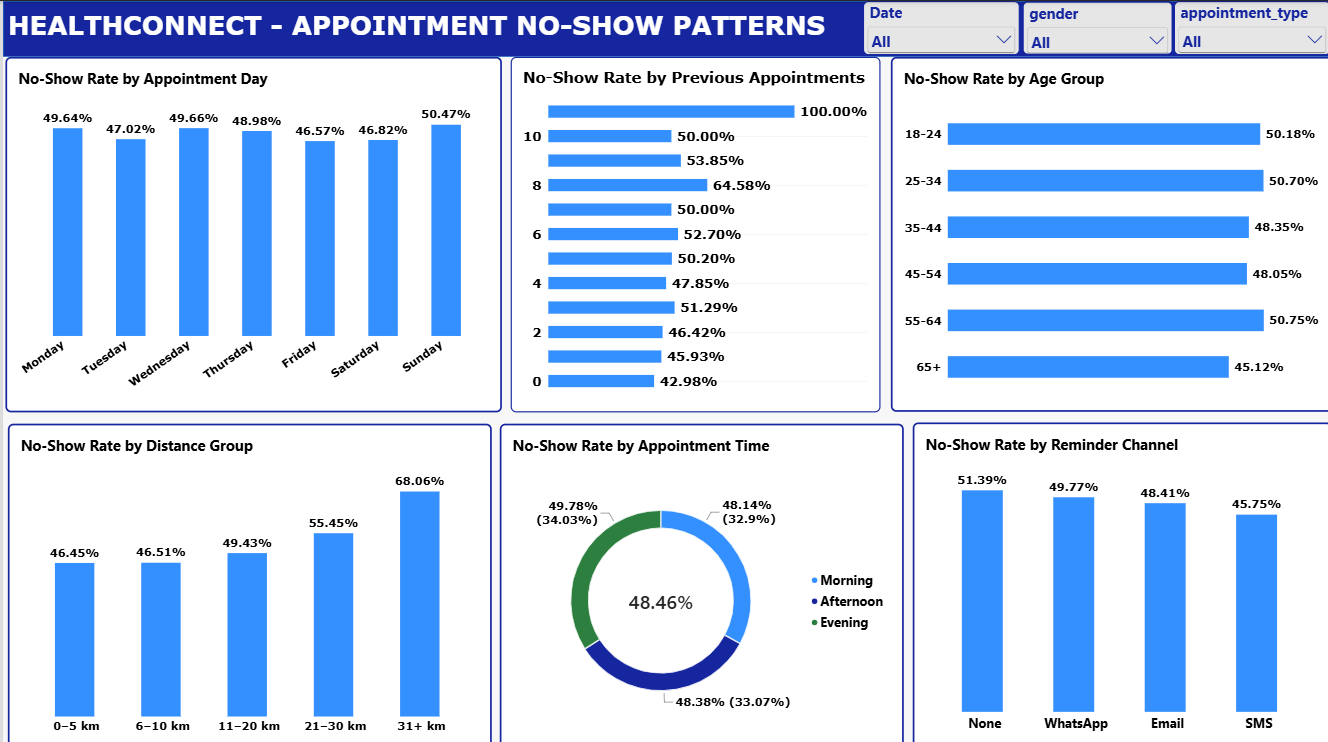

The page's visual inventory and layout, read from the dashboard file:
{"tool":"powerbi","page":{"name":"NO-SHOW-PATTERN","canvas":[1920,1080],"ordinal":1},"visuals":[{"type":"shape","box":[0,0,1918.5,80.3],"z":0},{"type":"clusteredColumnChart","title":"No-Show Rate by Appointment Day","fields":{"Category":["Appointments.appointment_day"],"Y":["Appointments.No-Show Rate"]},"box":[4.1,80.3,716.4,512.5],"z":1000},{"type":"clusteredBarChart","title":"No-Show Rate by Age Group","fields":{"Category":["Appointments.age_group"],"Y":["Appointments.No-Show Rate"]},"box":[1280.5,80.3,637.7,512.2],"z":2000},{"type":"donutChart","title":"No-Show Rate by Appointment Time","fields":{"Category":["Appointments.appointment_time"],"Y":["Appointments.No-Show Rate"]},"box":[716.4,609.3,582.6,469.3],"z":3000},{"type":"clusteredColumnChart","fields":{"Category":["Appointments.Distance Group New"],"Y":["Appointments.No-Show Rate"]},"box":[6.2,609.3,697.8,471.4],"z":4000},{"type":"slicer","fields":{"Values":["Appointments.appointment_type"]},"box":[1690,0,226.4,78.2],"z":5000},{"type":"slicer","fields":{"Values":["Appointments.gender"]},"box":[1469.8,0,218.2,78.2],"z":6000},{"type":"slicer","fields":{"Values":["DateTable.Date"]},"box":[1241.3,0,226.4,78.2],"z":7000},{"type":"clusteredColumnChart","title":"No-Show Rate by Reminder Channel","fields":{"Category":["Appointments.reminder_channel"],"Y":["Appointments.No-Show Rate"]},"box":[1313.3,607.3,605.2,471.4],"z":8000},{"type":"textbox","box":[6.2,10.3,1274.2,70],"z":9000},{"type":"clusteredBarChart","title":"No-Show Rate by Previous Appointments","fields":{"Y":["Appointments.No-Show Rate"],"Category":["Appointments.previous_appointments"]},"box":[732.8,80.3,533.1,512.5],"z":10000}]}

Visuals, with their boxes in screenshot pixels (x1, y1, x2, y2), scaled from the page's 1920x1080 canvas onto the 1328x742 screenshot:
shape: {"x1": 0, "y1": 0, "x2": 1327, "y2": 55}
"No-Show Rate by Appointment Day" clusteredColumnChart: {"x1": 3, "y1": 55, "x2": 498, "y2": 407}
"No-Show Rate by Age Group" clusteredBarChart: {"x1": 886, "y1": 55, "x2": 1327, "y2": 407}
"No-Show Rate by Appointment Time" donutChart: {"x1": 496, "y1": 419, "x2": 898, "y2": 741}
clusteredColumnChart - Appointments.Distance Group New x Appointments.No-Show Rate: {"x1": 4, "y1": 419, "x2": 487, "y2": 741}
slicer - Appointments.appointment_type: {"x1": 1169, "y1": 0, "x2": 1326, "y2": 54}
slicer - Appointments.gender: {"x1": 1017, "y1": 0, "x2": 1168, "y2": 54}
slicer - DateTable.Date: {"x1": 859, "y1": 0, "x2": 1015, "y2": 54}
"No-Show Rate by Reminder Channel" clusteredColumnChart: {"x1": 908, "y1": 417, "x2": 1327, "y2": 741}
textbox: {"x1": 4, "y1": 7, "x2": 886, "y2": 55}
"No-Show Rate by Previous Appointments" clusteredBarChart: {"x1": 507, "y1": 55, "x2": 876, "y2": 407}
